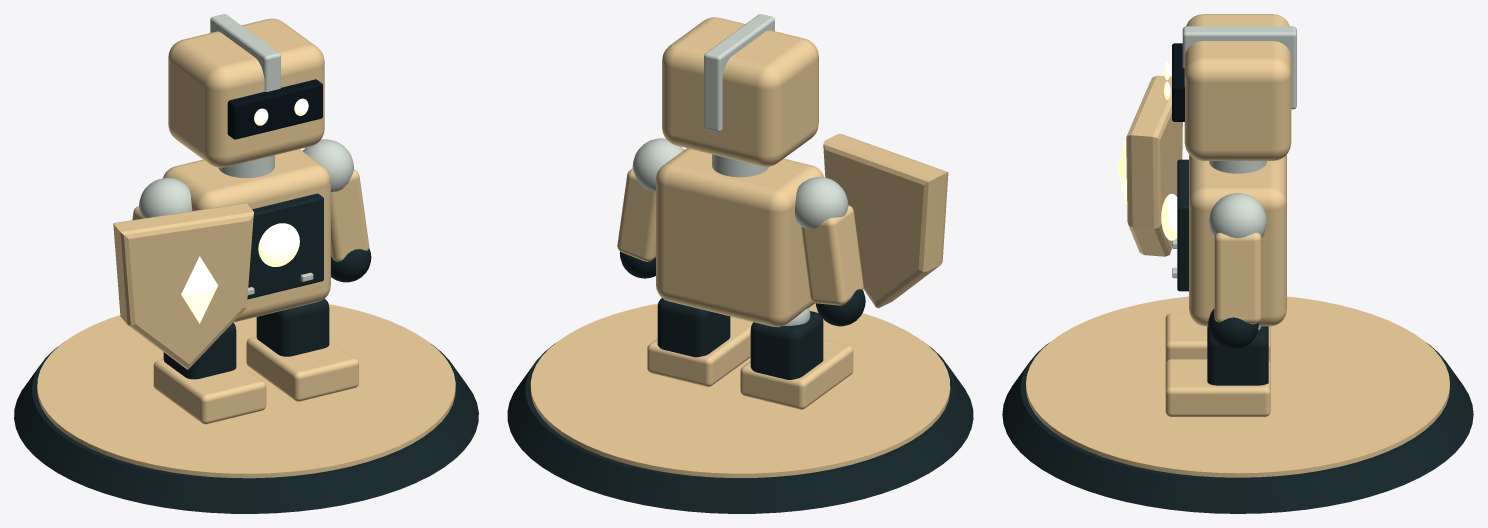
File: orion.glb
The picture shows the model from 3 angles, left to right: view 1: azimuth 30°, elevation 25°; view 2: azimuth 150°, elevation 25°; view 3: azimuth 270°, elevation 25°; orthographic projection.
Parts seen in each view (by area): view 1: Character, Orion, Display plinth; view 2: Character, Orion, Display plinth; view 3: Character, Orion, Display plinth.
Part boxes in pixels (bbox=[...]): Character: bbox=[113, 14, 371, 424]; Orion: bbox=[37, 304, 455, 478]; Display plinth: bbox=[14, 342, 478, 513]; Character: bbox=[617, 14, 948, 409]; Orion: bbox=[530, 303, 950, 477]; Display plinth: bbox=[507, 341, 973, 513]; Character: bbox=[1117, 14, 1296, 416]; Orion: bbox=[1026, 296, 1449, 477]; Display plinth: bbox=[1002, 342, 1473, 513].
Bounding box in the file's own units: 2.6 × 2.34 × 2.6.
